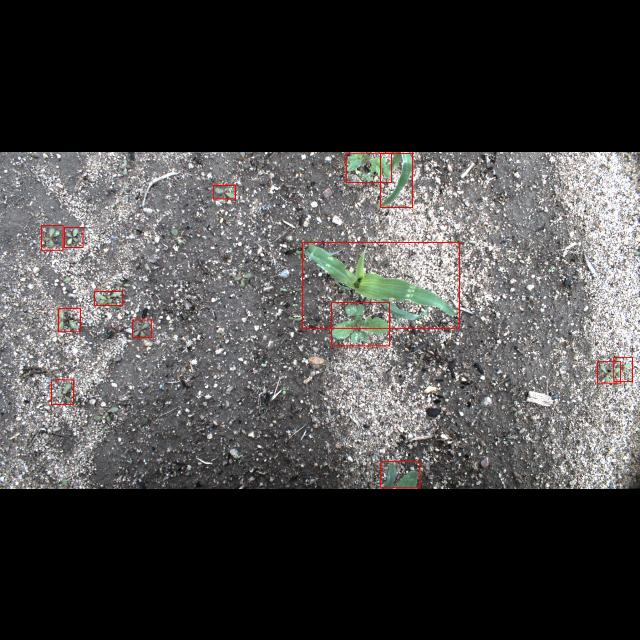crop: (302, 241, 460, 327), (380, 152, 412, 206), (380, 461, 420, 487)
weed: (332, 301, 390, 345), (346, 152, 392, 182), (58, 307, 80, 331), (51, 380, 73, 404), (42, 224, 62, 250), (614, 356, 632, 382), (598, 362, 620, 382), (64, 226, 84, 246), (95, 291, 123, 305), (132, 319, 152, 337), (213, 184, 235, 198)
